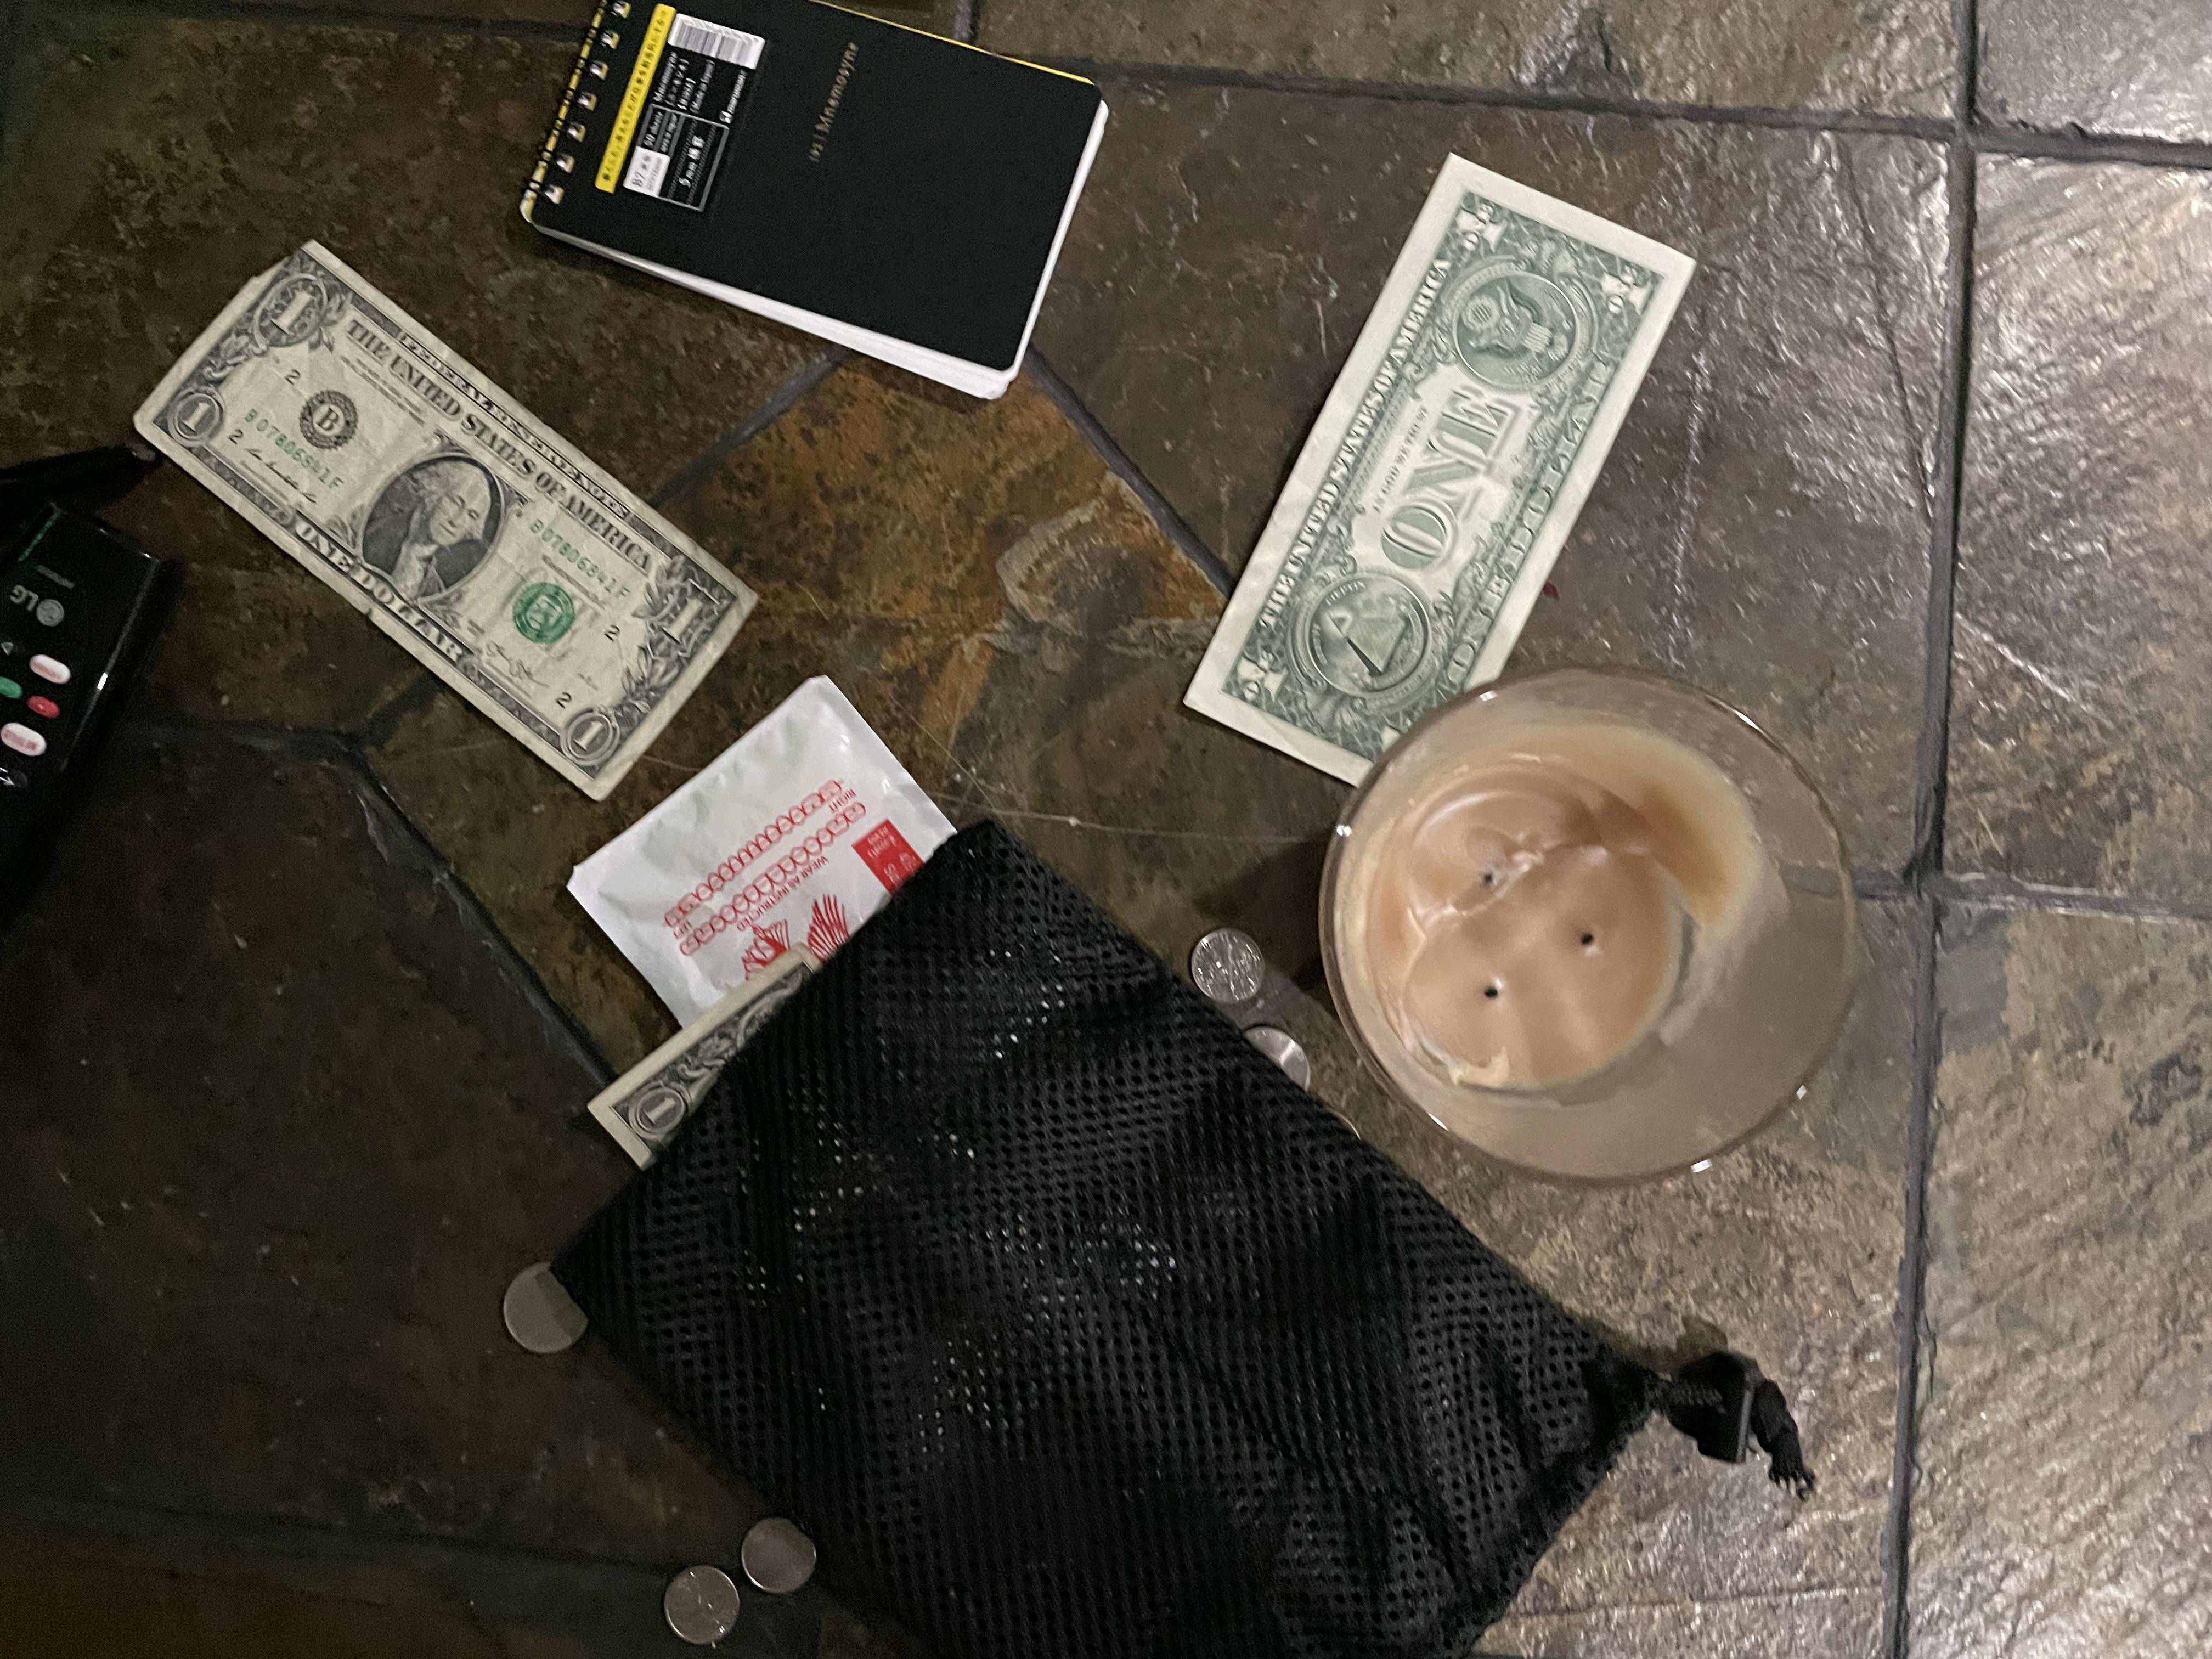Dime: (653, 1554, 752, 1649), (1177, 922, 1278, 1007), (737, 1516, 838, 1589)
Nickel: (496, 1253, 604, 1368)
OneBill: (134, 230, 759, 795), (1176, 152, 1702, 805)
